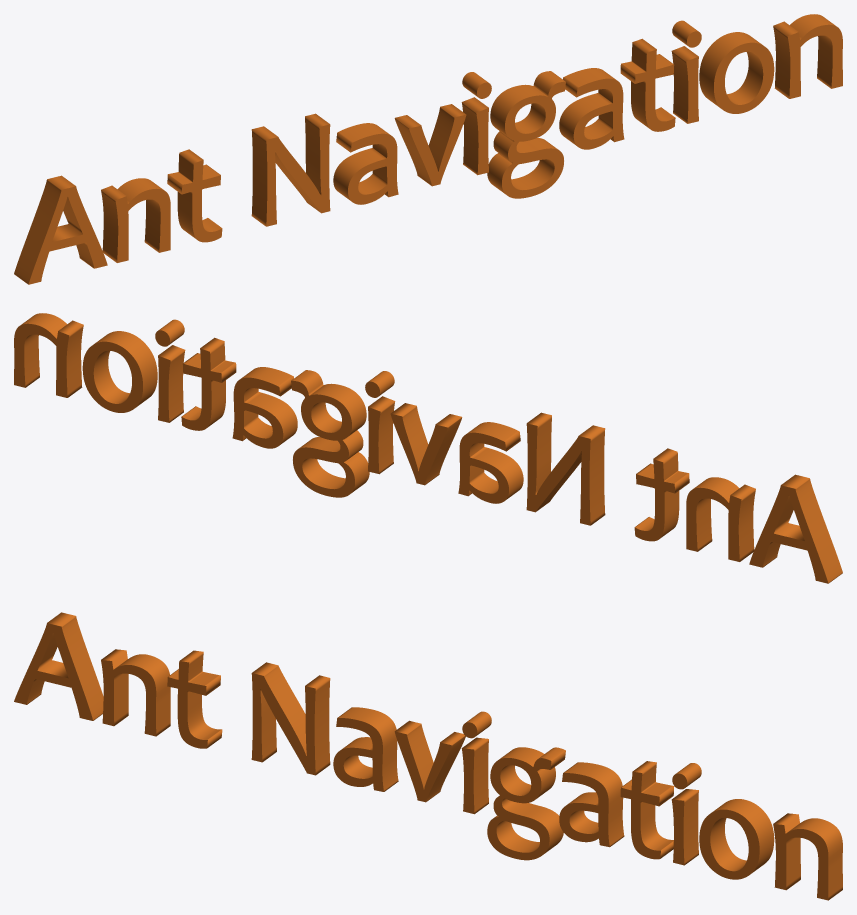
File: AntNavigation.fbx
3 renders of one model, top to bottom at view 1: azimuth 30°, elevation 25°; view 2: azimuth 150°, elevation 25°; view 3: azimuth 330°, elevation 25°, orthographic.
Parts seen in each view (by area): view 1: Text; view 2: Text; view 3: Text.
Part boxes in pixels (box(x1,y1,x2,y2)): Text: box(14, 14, 842, 284); Text: box(14, 313, 842, 583); Text: box(14, 612, 842, 900).
Size of the model in its own units: 504 by 74.12 by 15.6.
